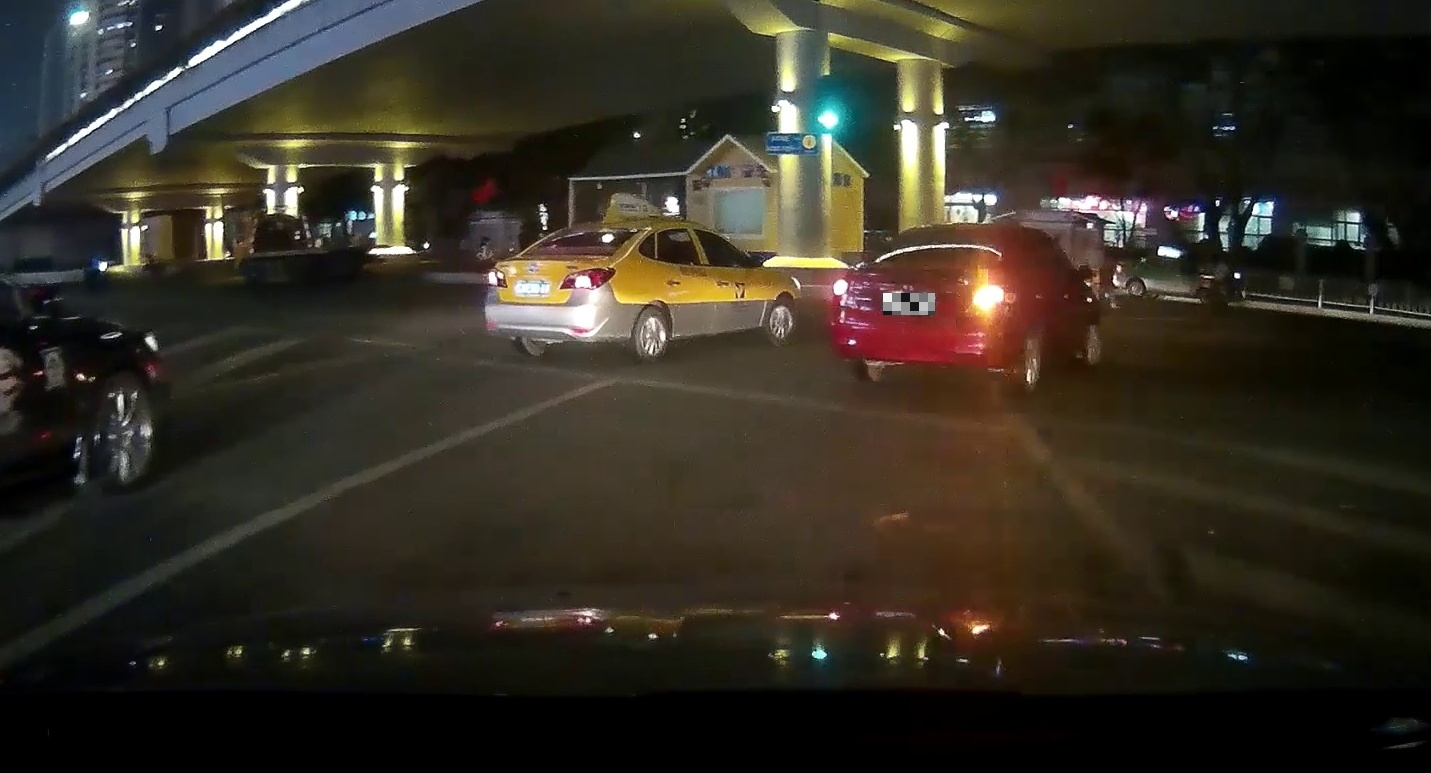L_light: (830, 279, 858, 310), (486, 267, 508, 288)
R_light: (559, 267, 616, 290), (972, 284, 1005, 312)
T_light: (555, 251, 578, 255), (939, 231, 963, 234)
night-no: (484, 220, 651, 364)
night-right: (829, 223, 1015, 394)
plate_1: (883, 293, 935, 315)
